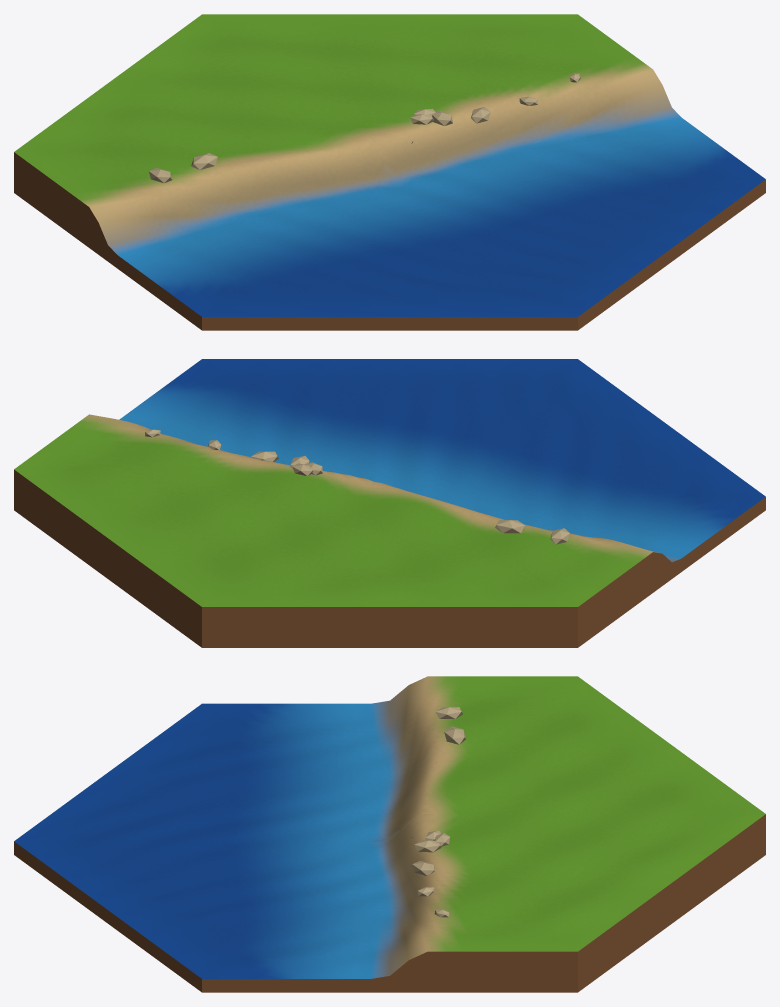
File: SM_Agua_CostaRecta_LOD0.fbx
The picture shows the model from 3 angles, top to bottom: view 1: azimuth 30°, elevation 25°; view 2: azimuth 150°, elevation 25°; view 3: azimuth 270°, elevation 25°; orthographic projection.
Visible parts, largest first — view 1: SM_Agua_CostaRecta_LOD0; view 2: SM_Agua_CostaRecta_LOD0; view 3: SM_Agua_CostaRecta_LOD0.
Part boxes in pixels (x1=…): SM_Agua_CostaRecta_LOD0: x1=14, y1=14, x2=765, y2=330; SM_Agua_CostaRecta_LOD0: x1=14, y1=359, x2=765, y2=647; SM_Agua_CostaRecta_LOD0: x1=14, y1=676, x2=765, y2=992.
Bounding box in the file's own units: 1.73 × 0.1503 × 2.
1 material, 1 textured.
